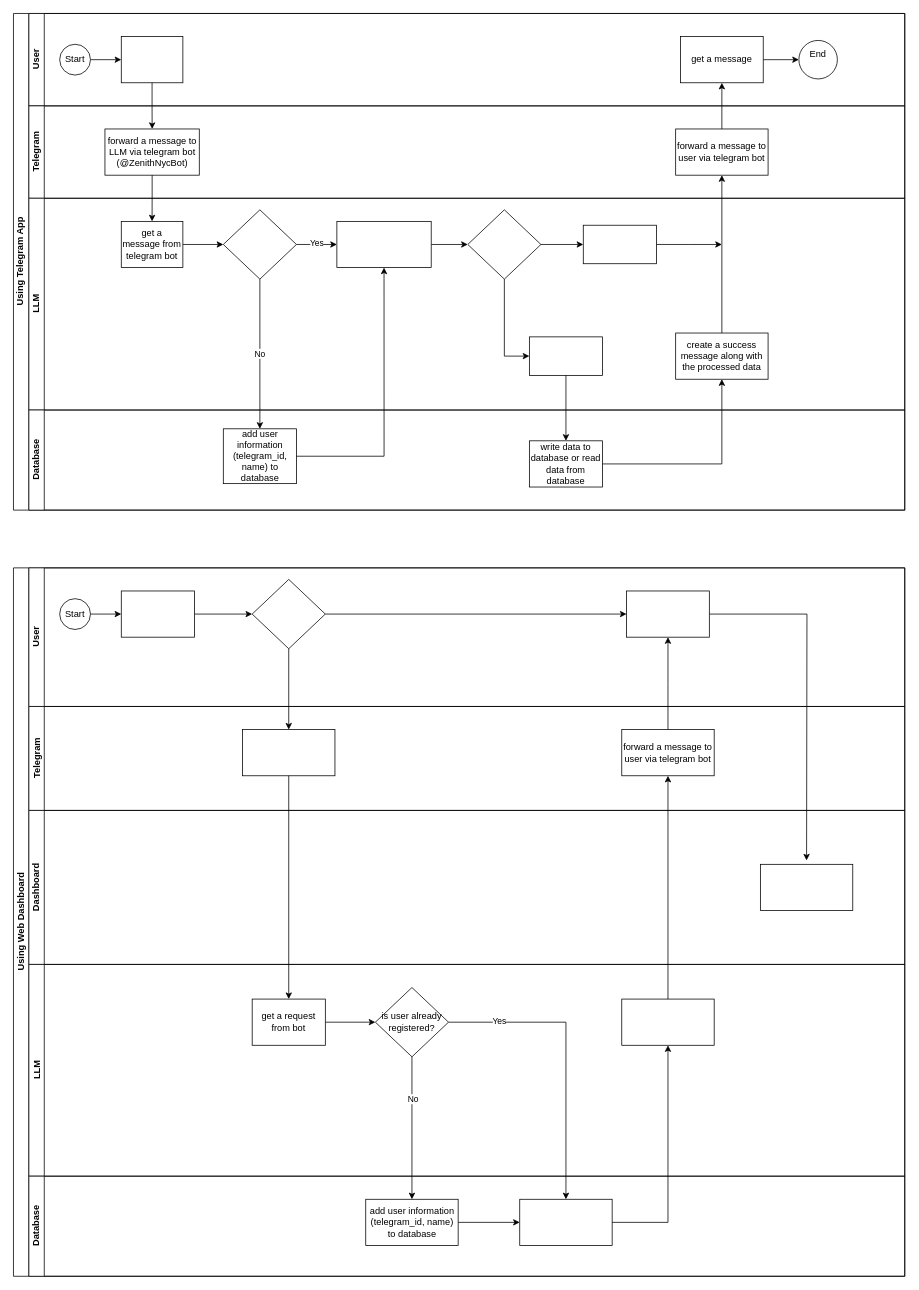
This 919x1290 diagram has some shape labels left out. The centre of each missing label's shape, as x and y in pixels:
"are there any suitable tools?" goes at pixel 504 244.
"ask the bot to request a telegram id" goes at pixel 288 752.
"check if user already registered in db" goes at pixel 259 244.
"create a error message" goes at pixel 619 244.
"creating a response regarding a user's telegram_id" goes at pixel 667 1021.
"get a telegram_id" goes at pixel 667 613.
"get a user telegram_id" goes at pixel 565 1222.
"is user know his telegram_id?" goes at pixel 288 614.
"login using telegram_id" goes at pixel 806 887.
"must have telegram app" goes at pixel 157 613.
"run a suitable tools" goes at pixel 566 355.
"select tools that suit user requests using the agentic AI feature" goes at pixel 383 244.
"send a messages related to finance" goes at pixel 152 59.
